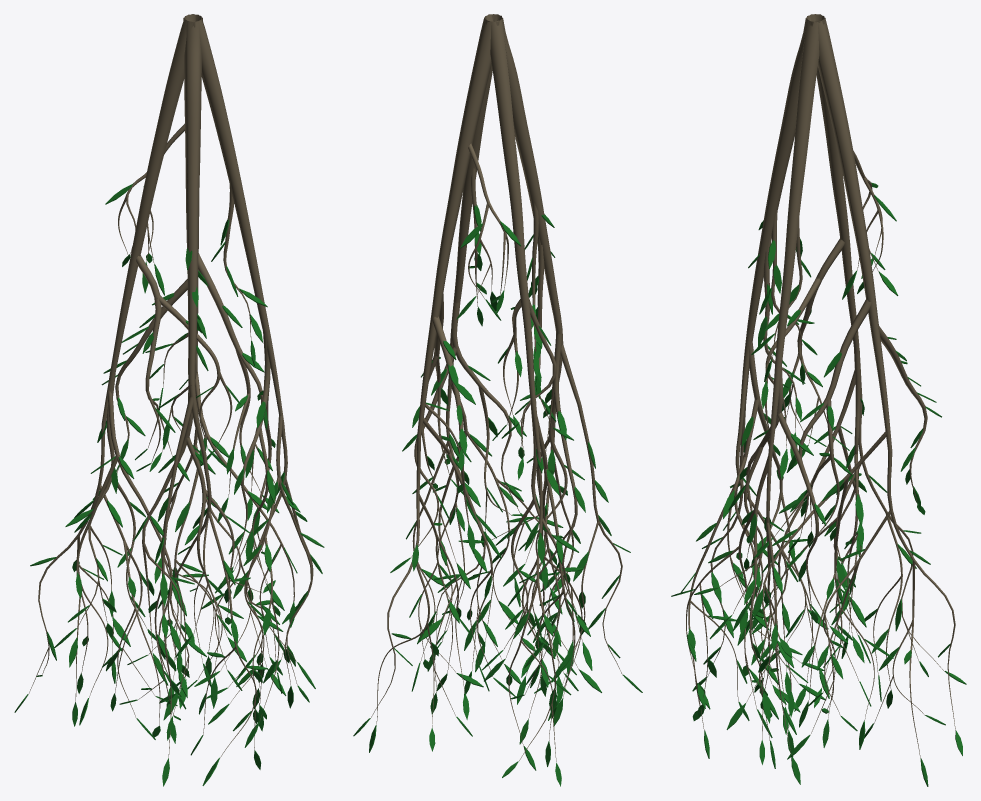
File: vines1.fbx
3 renders of one model, left to right at view 1: azimuth 30°, elevation 25°; view 2: azimuth 150°, elevation 25°; view 3: azimuth 270°, elevation 25°, orthographic. The views are drawn at different scales.
Parts seen in each view (by area): view 1: vines1; view 2: vines1; view 3: vines1.
Boxes of the visible parts, <box> form: vines1: <box>14,14,324,786</box>; vines1: <box>353,14,642,786</box>; vines1: <box>671,14,966,786</box>.
Bounding box in the file's own units: 249 × 734 × 268.
